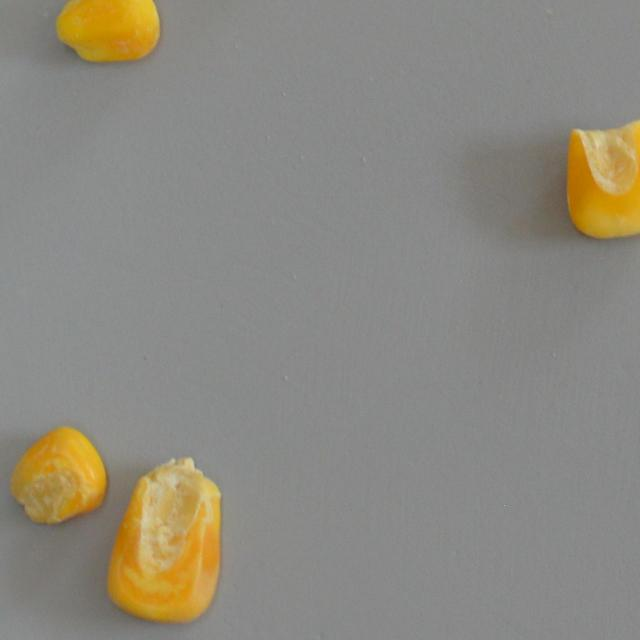no_desgerminado: (106, 454, 224, 628), (8, 426, 108, 527), (563, 118, 640, 239)
pelicula: (53, 0, 160, 63)
